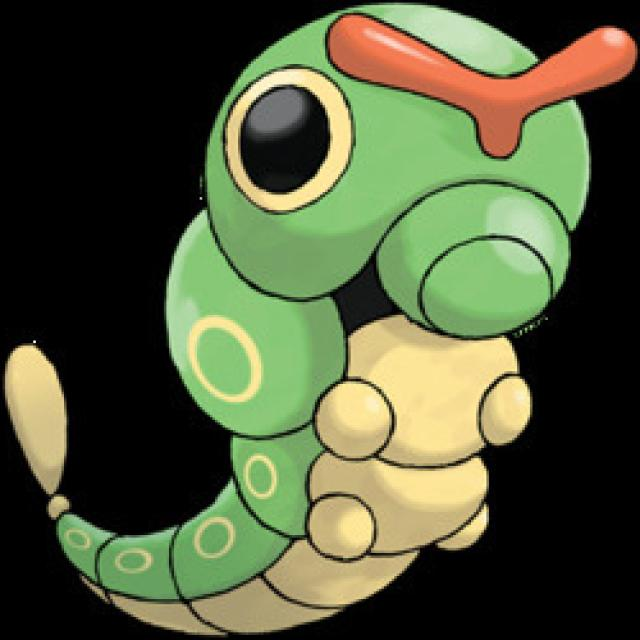Caterpie: (167, 12, 599, 634)
